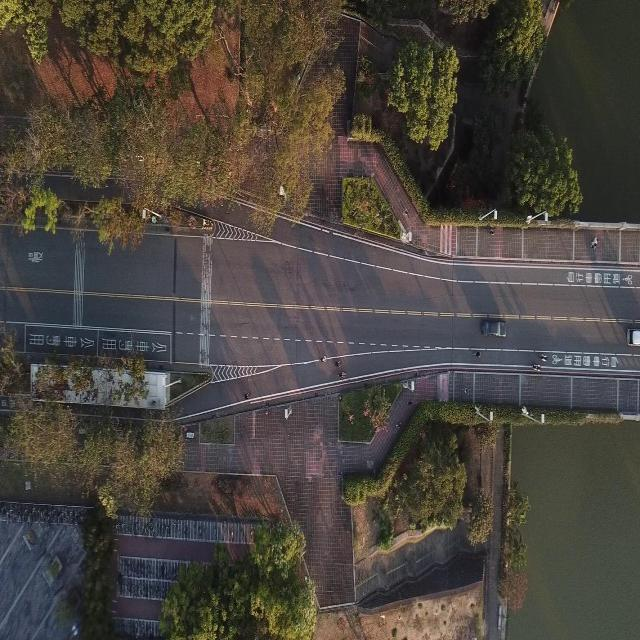car: (482, 318, 506, 338)
